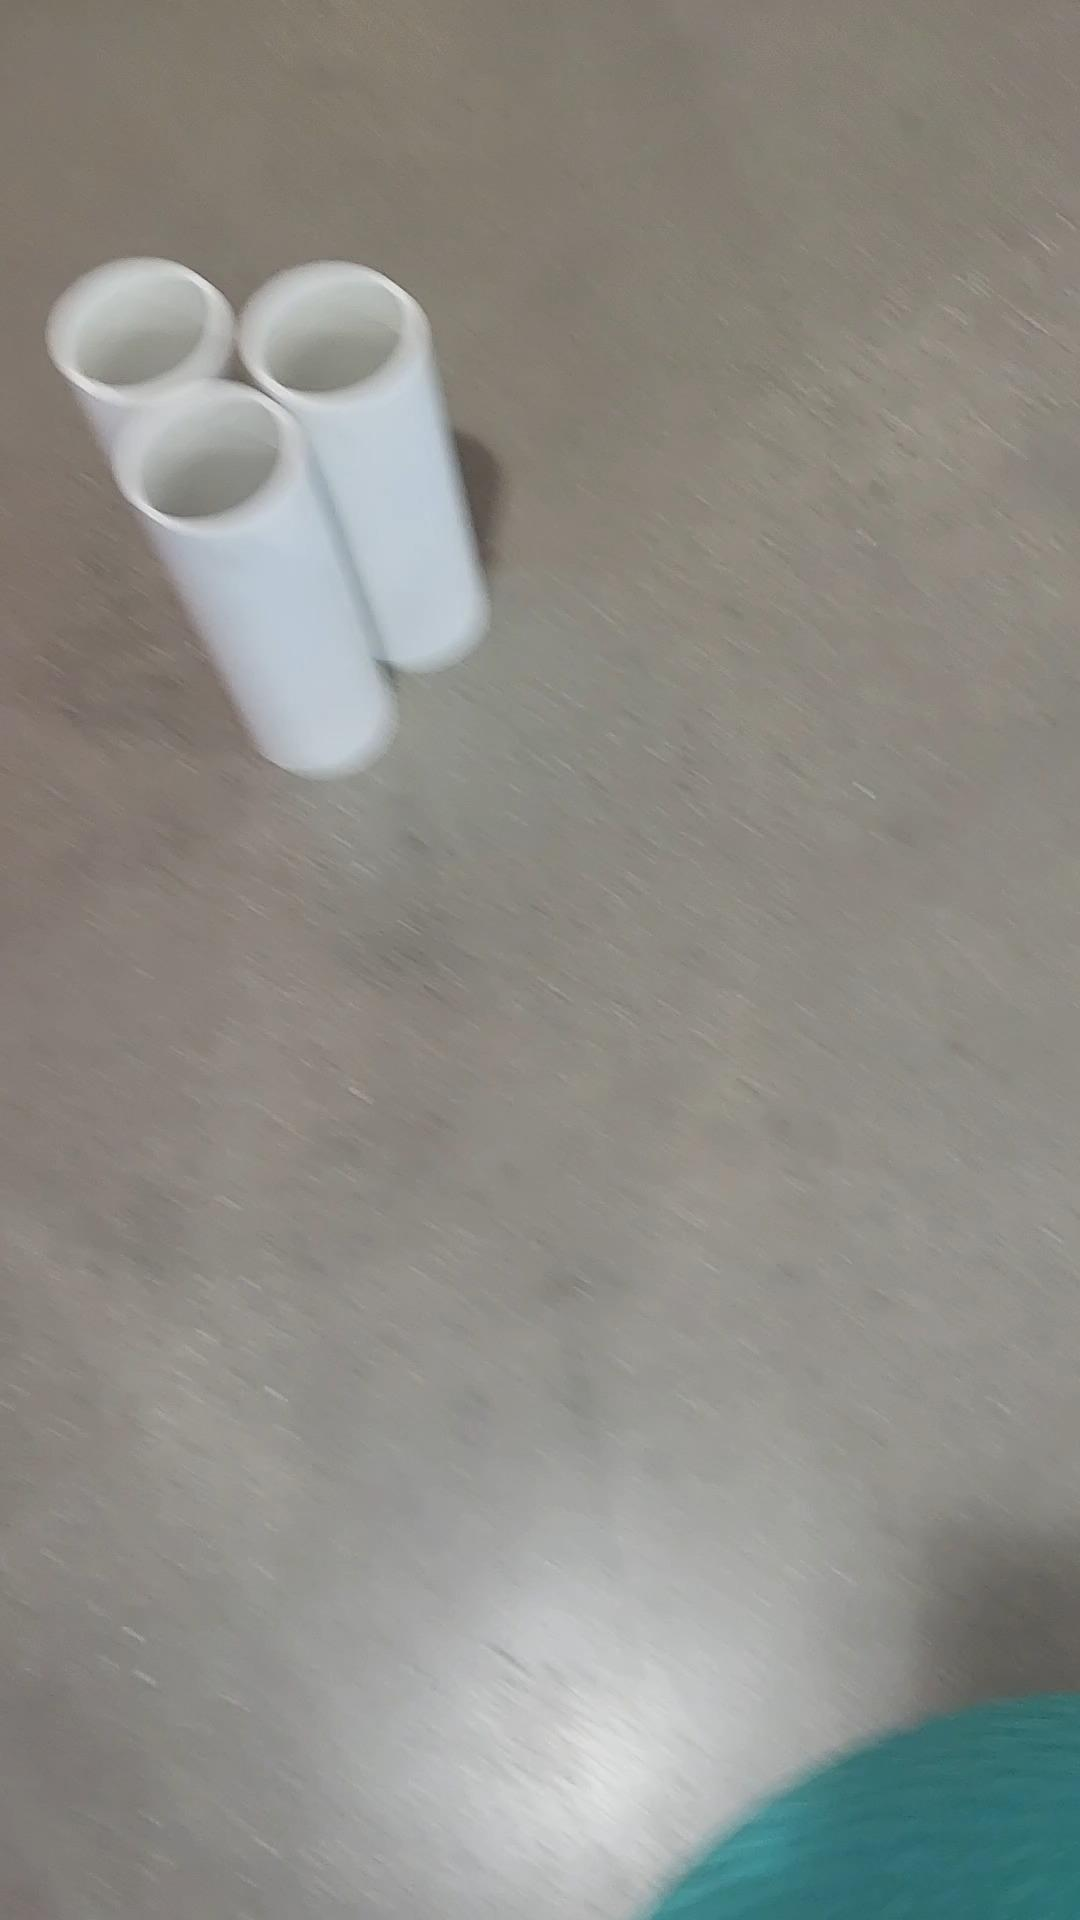algae: (671, 1696, 1080, 1920)
coral: (239, 272, 482, 670), (143, 392, 371, 792), (66, 266, 211, 396)
